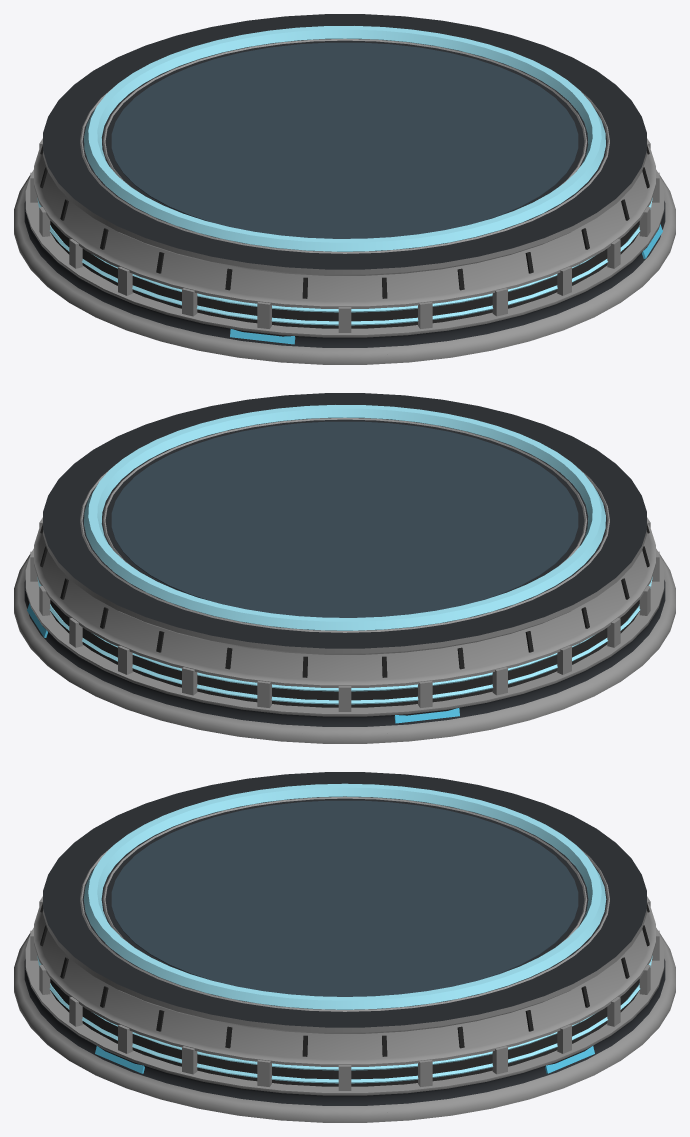
Rendered from Holo_Pedestal.fbx.
3 views of the same model, one above another, from view 1: azimuth 30°, elevation 25°; view 2: azimuth 150°, elevation 25°; view 3: azimuth 270°, elevation 25° (orthographic).
Visible parts, largest first — view 1: Holo_Pedestal_LOD0; view 2: Holo_Pedestal_LOD0; view 3: Holo_Pedestal_LOD0.
Part boxes in pixels (left/top/right/bottom): Holo_Pedestal_LOD0: left=14, top=14, right=675, bottom=364; Holo_Pedestal_LOD0: left=14, top=393, right=675, bottom=743; Holo_Pedestal_LOD0: left=14, top=772, right=675, bottom=1122.
Size of what is drawn, in the model's own units: 5.77 by 0.8726 by 5.77.
